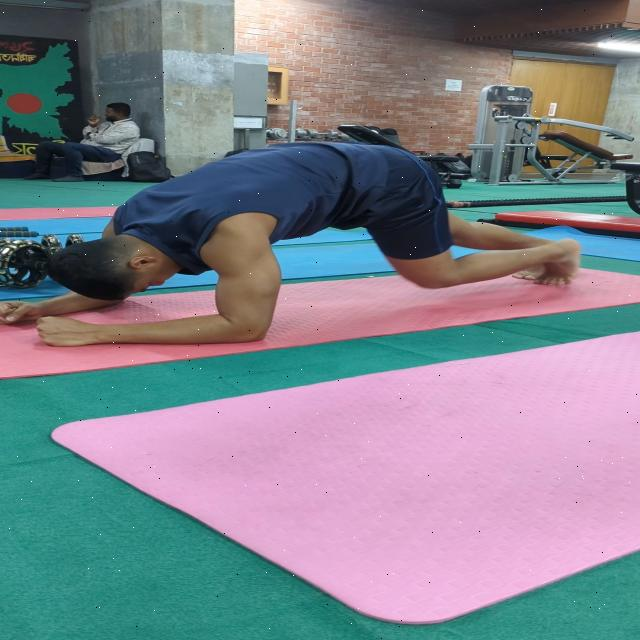Normal_MountainClimbers: (0, 122, 640, 364)
